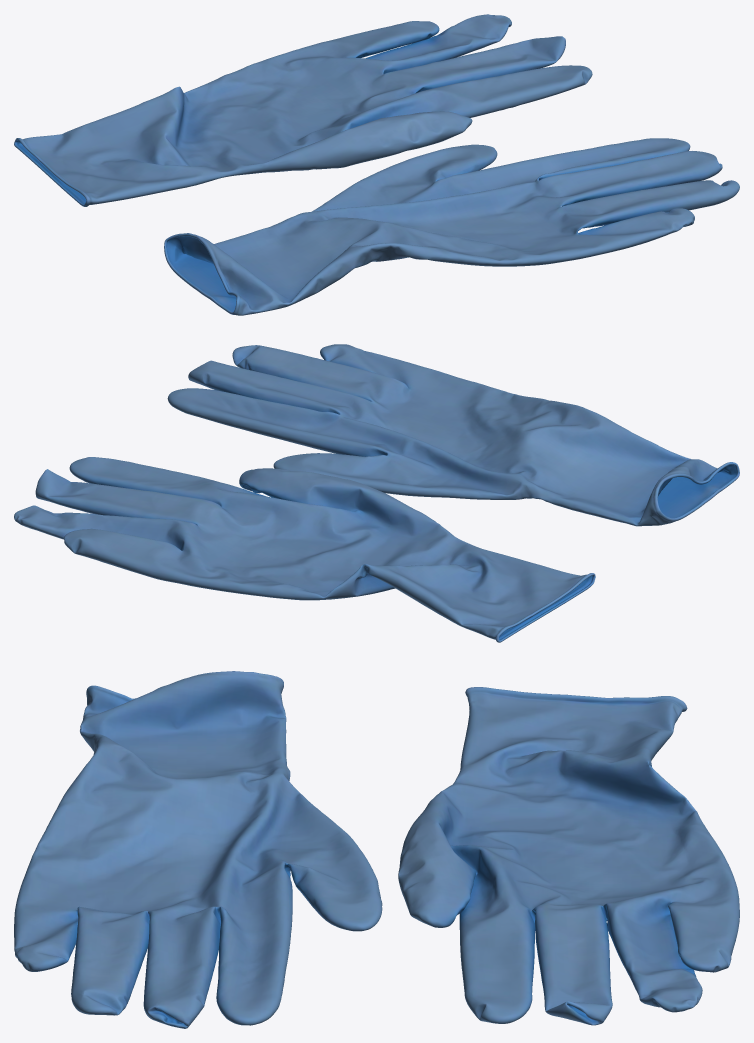
Rendered from guantes.glb.
3 renders of one model, top to bottom at view 1: azimuth 30°, elevation 25°; view 2: azimuth 150°, elevation 25°; view 3: azimuth 270°, elevation 25°, orthographic. The views are drawn at different scales.
Parts seen in each view (by area): view 1: rightGlove_01_mesh_00, leftGlove_01_mesh_00; view 2: leftGlove_01_mesh_00, rightGlove_01_mesh_00; view 3: leftGlove_01_mesh_00, rightGlove_01_mesh_00.
Part boxes in pixels (bbox=[...]): rightGlove_01_mesh_00: bbox=[14, 14, 592, 206]; leftGlove_01_mesh_00: bbox=[164, 138, 739, 315]; leftGlove_01_mesh_00: bbox=[167, 344, 739, 526]; rightGlove_01_mesh_00: bbox=[14, 457, 595, 642]; leftGlove_01_mesh_00: bbox=[14, 671, 382, 1028]; rightGlove_01_mesh_00: bbox=[398, 687, 739, 1025].
Size of the model in its own units: 0.2468 by 0.0163 by 0.231.
1 material, 1 textured.
